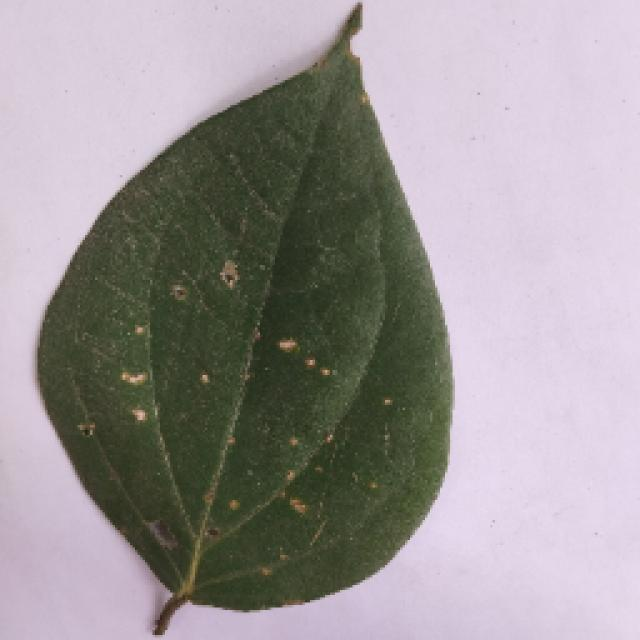pollu-disease: (10, 12, 605, 630)
